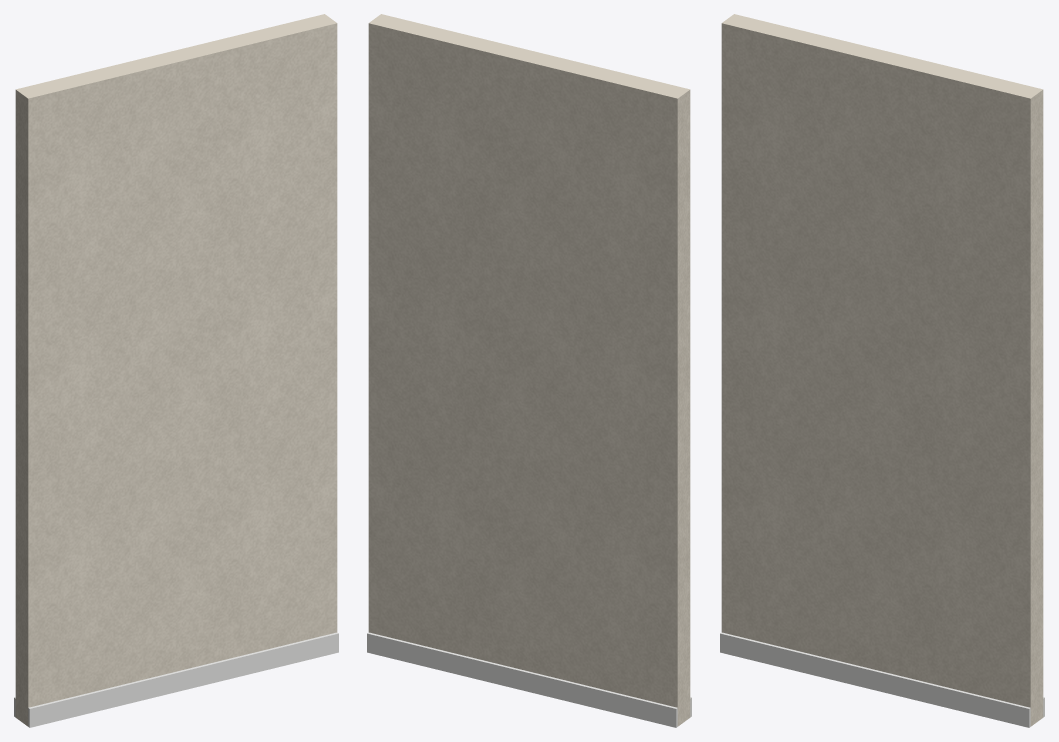
Rendered from interior_wall_end.glb.
The picture shows the model from 3 angles, left to right: view 1: azimuth 30°, elevation 25°; view 2: azimuth 150°, elevation 25°; view 3: azimuth 330°, elevation 25°; orthographic projection.
Visible parts, largest first — view 1: interior_wall_end_plaster, interior_wall_end_trim; view 2: interior_wall_end_plaster, interior_wall_end_trim; view 3: interior_wall_end_plaster, interior_wall_end_trim.
Boxes of the visible parts, x1,y1,x2,y2 form: interior_wall_end_plaster: (15,14,337,726); interior_wall_end_trim: (14,632,338,727); interior_wall_end_plaster: (368,14,690,726); interior_wall_end_trim: (367,632,691,727); interior_wall_end_plaster: (721,14,1043,726); interior_wall_end_trim: (720,632,1044,727).
Bounding box in the file's own units: 1.7 × 3.3 × 0.15.
Materials: 2 (1 with a texture image).
